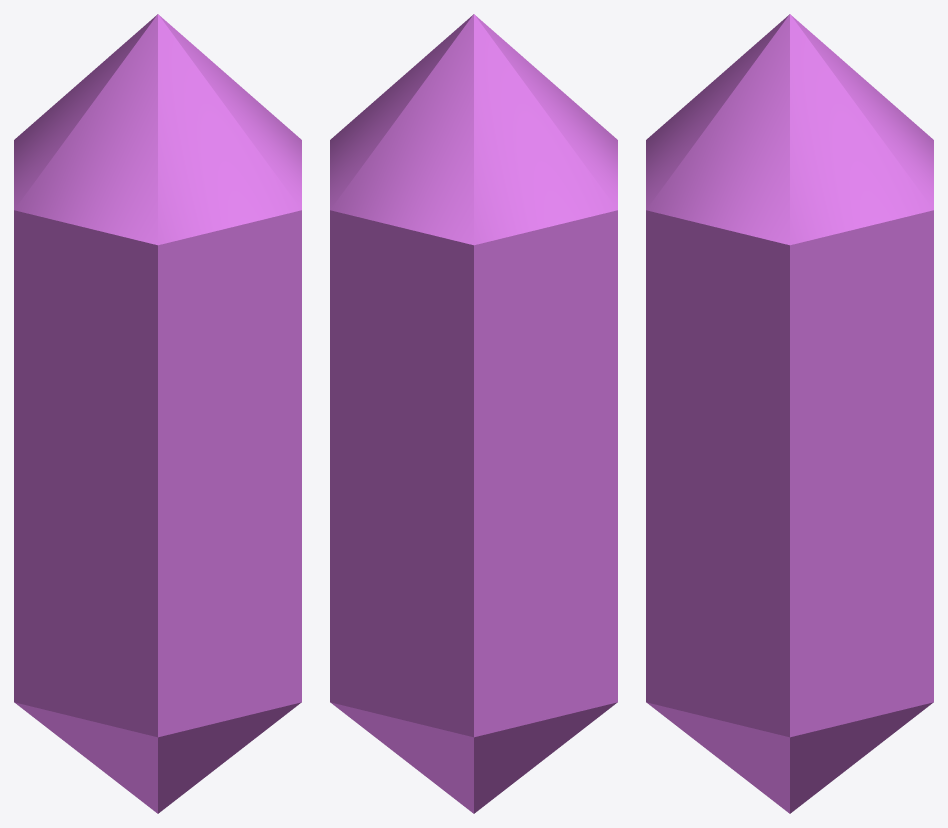
The model's file is shard.FBX.
3 renders of one model, left to right at view 1: azimuth 30°, elevation 25°; view 2: azimuth 150°, elevation 25°; view 3: azimuth 270°, elevation 25°, orthographic.
Parts seen in each view (by area): view 1: Cone001; view 2: Cone001; view 3: Cone001.
Boxes of the visible parts, x1,y1,x2,y2 form: Cone001: (14, 14, 301, 813); Cone001: (330, 14, 617, 813); Cone001: (646, 14, 933, 813).
Size of the model in its own units: 2902 by 7708 by 2514.
